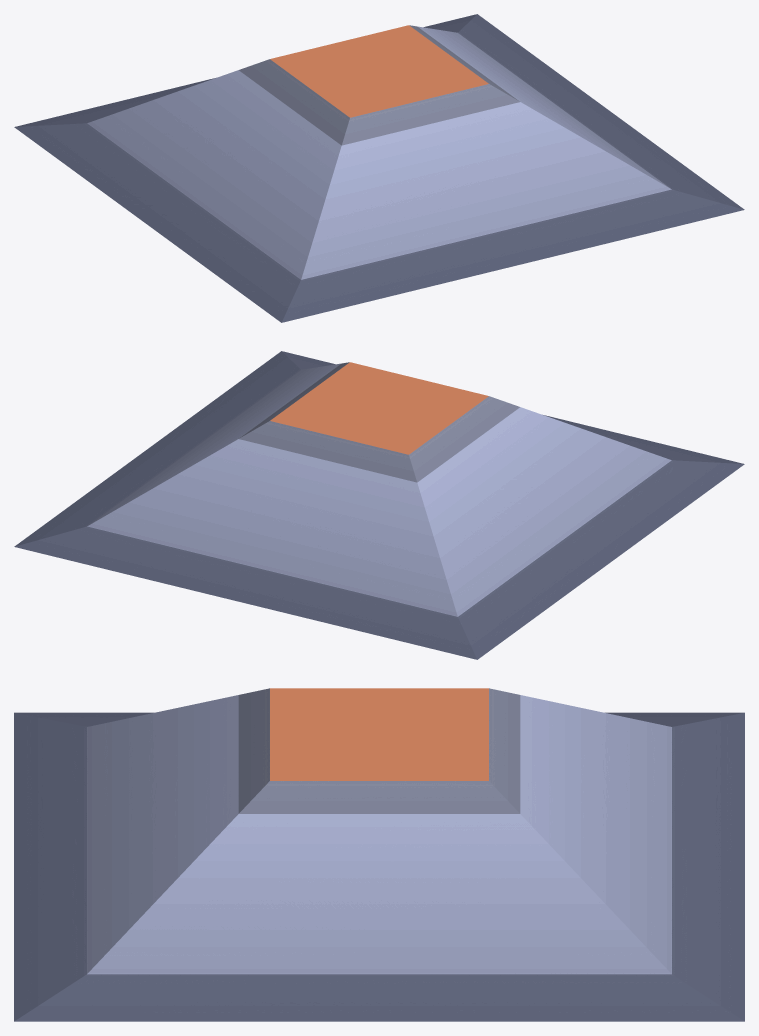
File: skt-obstacle-box.glb
3 views of the same model, one above another, from view 1: azimuth 30°, elevation 25°; view 2: azimuth 150°, elevation 25°; view 3: azimuth 270°, elevation 25° (orthographic). The views are drawn at different scales.
Parts seen in each view (by area): view 1: obstacle-box; view 2: obstacle-box; view 3: obstacle-box.
Boxes of the visible parts, box(x1,y1,x2,y2) form: obstacle-box: box(14, 14, 744, 322); obstacle-box: box(14, 351, 744, 659); obstacle-box: box(14, 688, 744, 1021).
Bounding box in the file's own units: 1 × 0.2 × 1.
Materials: 1 (1 with a texture image).
